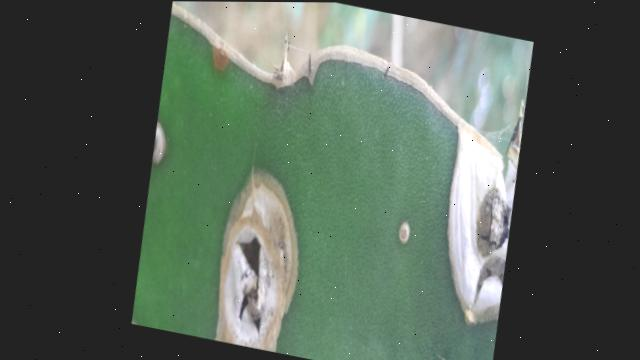stemcanker: (397, 218, 411, 245)
